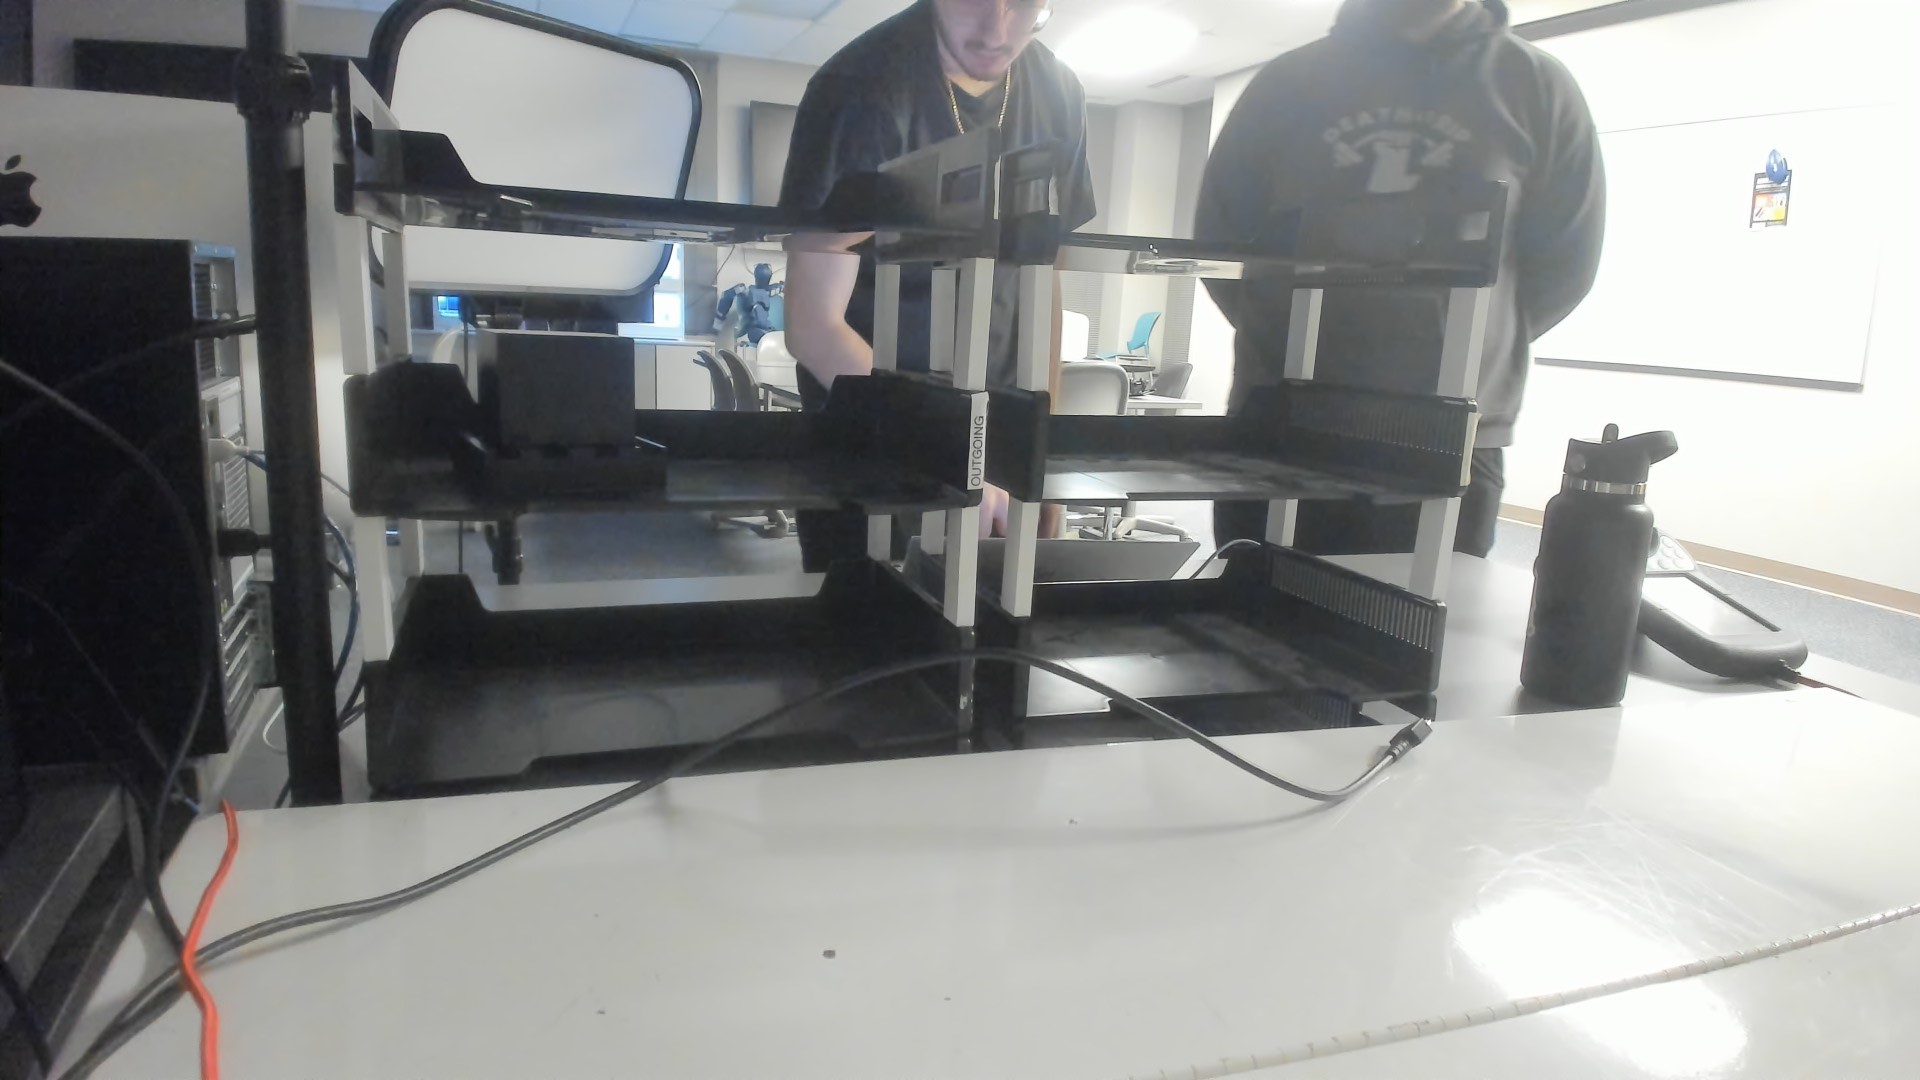black pallet: (443, 322, 682, 505)
